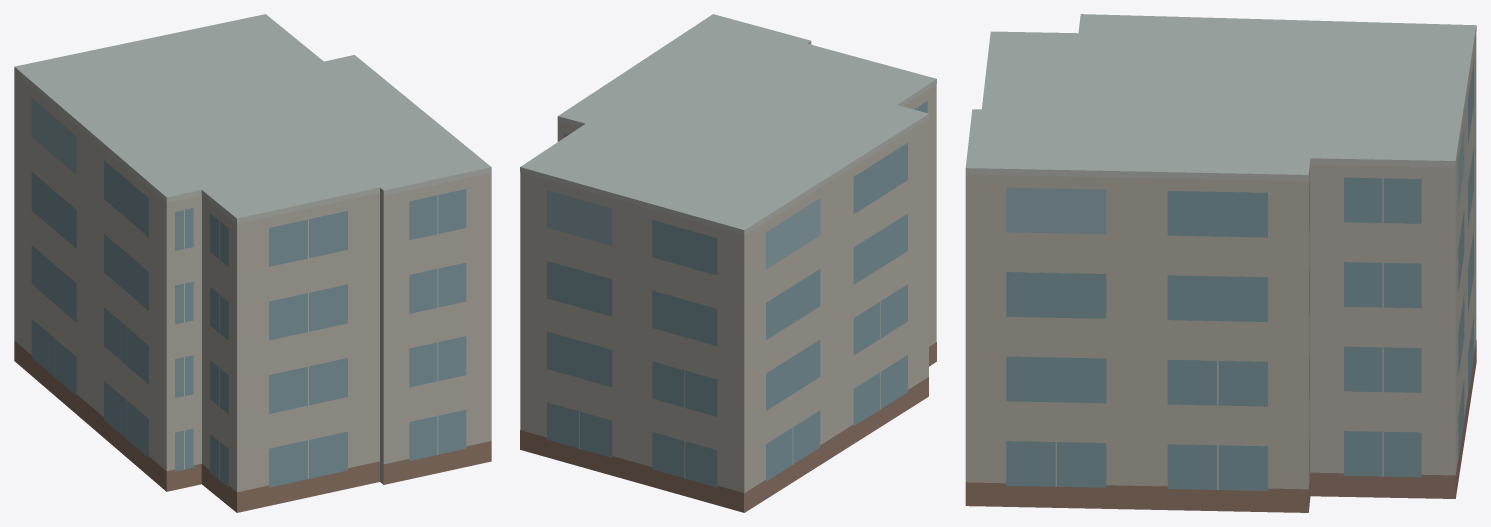
The model's file is survey-upis-32866294.glb.
3 views of the same model, side by side, from view 1: azimuth 30°, elevation 25°; view 2: azimuth 150°, elevation 25°; view 3: azimuth 270°, elevation 25° (orthographic). The views are drawn at different scales.
Parts seen in each view (by area): view 1: survey-upis-32866294.tmp; view 2: survey-upis-32866294.tmp; view 3: survey-upis-32866294.tmp.
Boxes of the visible parts, box(x1,y1,x2,y2) form: survey-upis-32866294.tmp: box(14, 14, 491, 512); survey-upis-32866294.tmp: box(520, 14, 936, 512); survey-upis-32866294.tmp: box(965, 14, 1476, 512).
Bounding box in the file's own units: 13.29 × 13 × 17.82.
